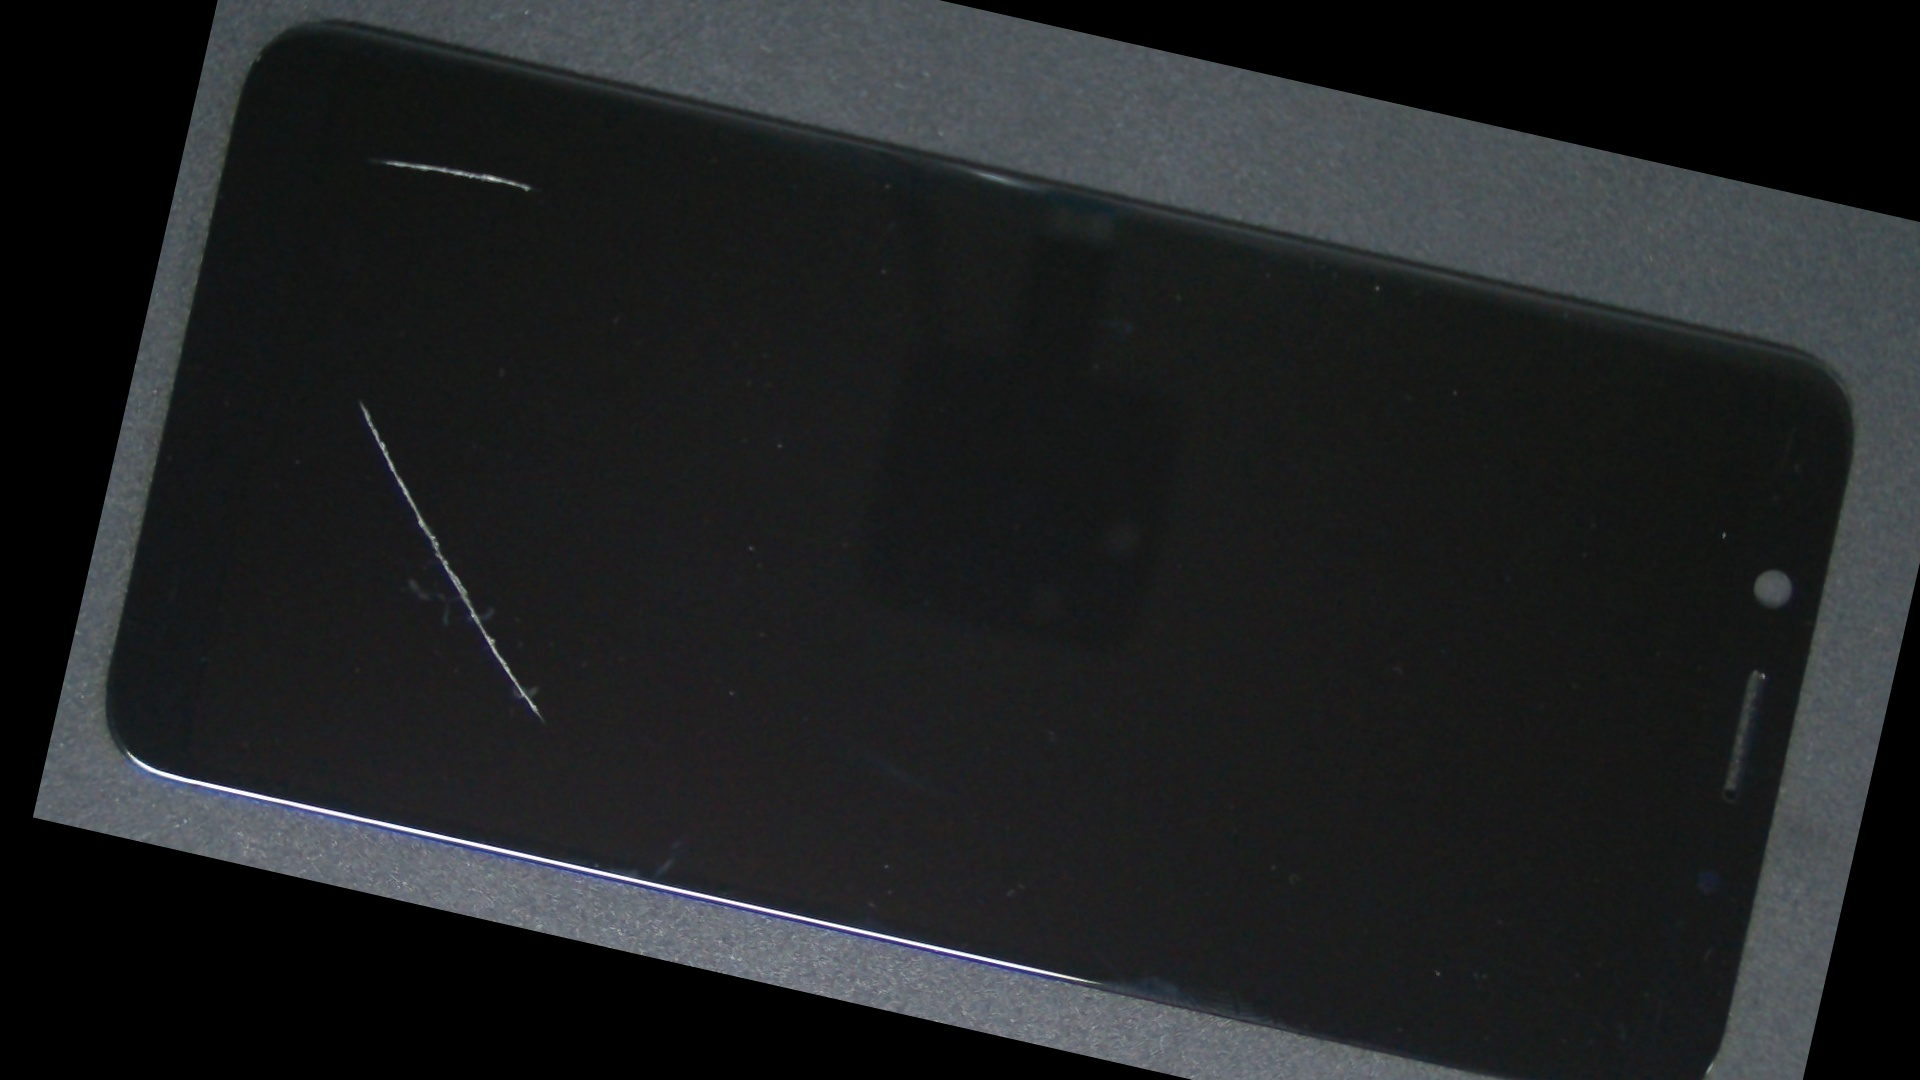oil: (193, 121, 529, 675), (319, 11, 687, 343)
